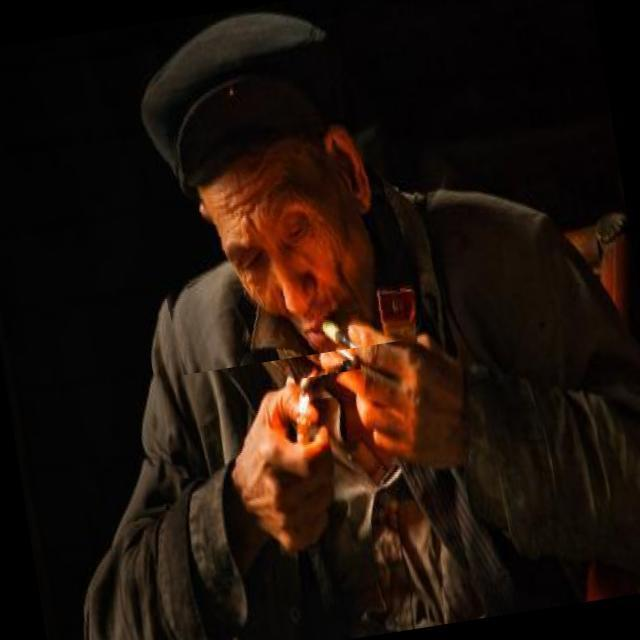cigarette: (286, 304, 361, 380)
